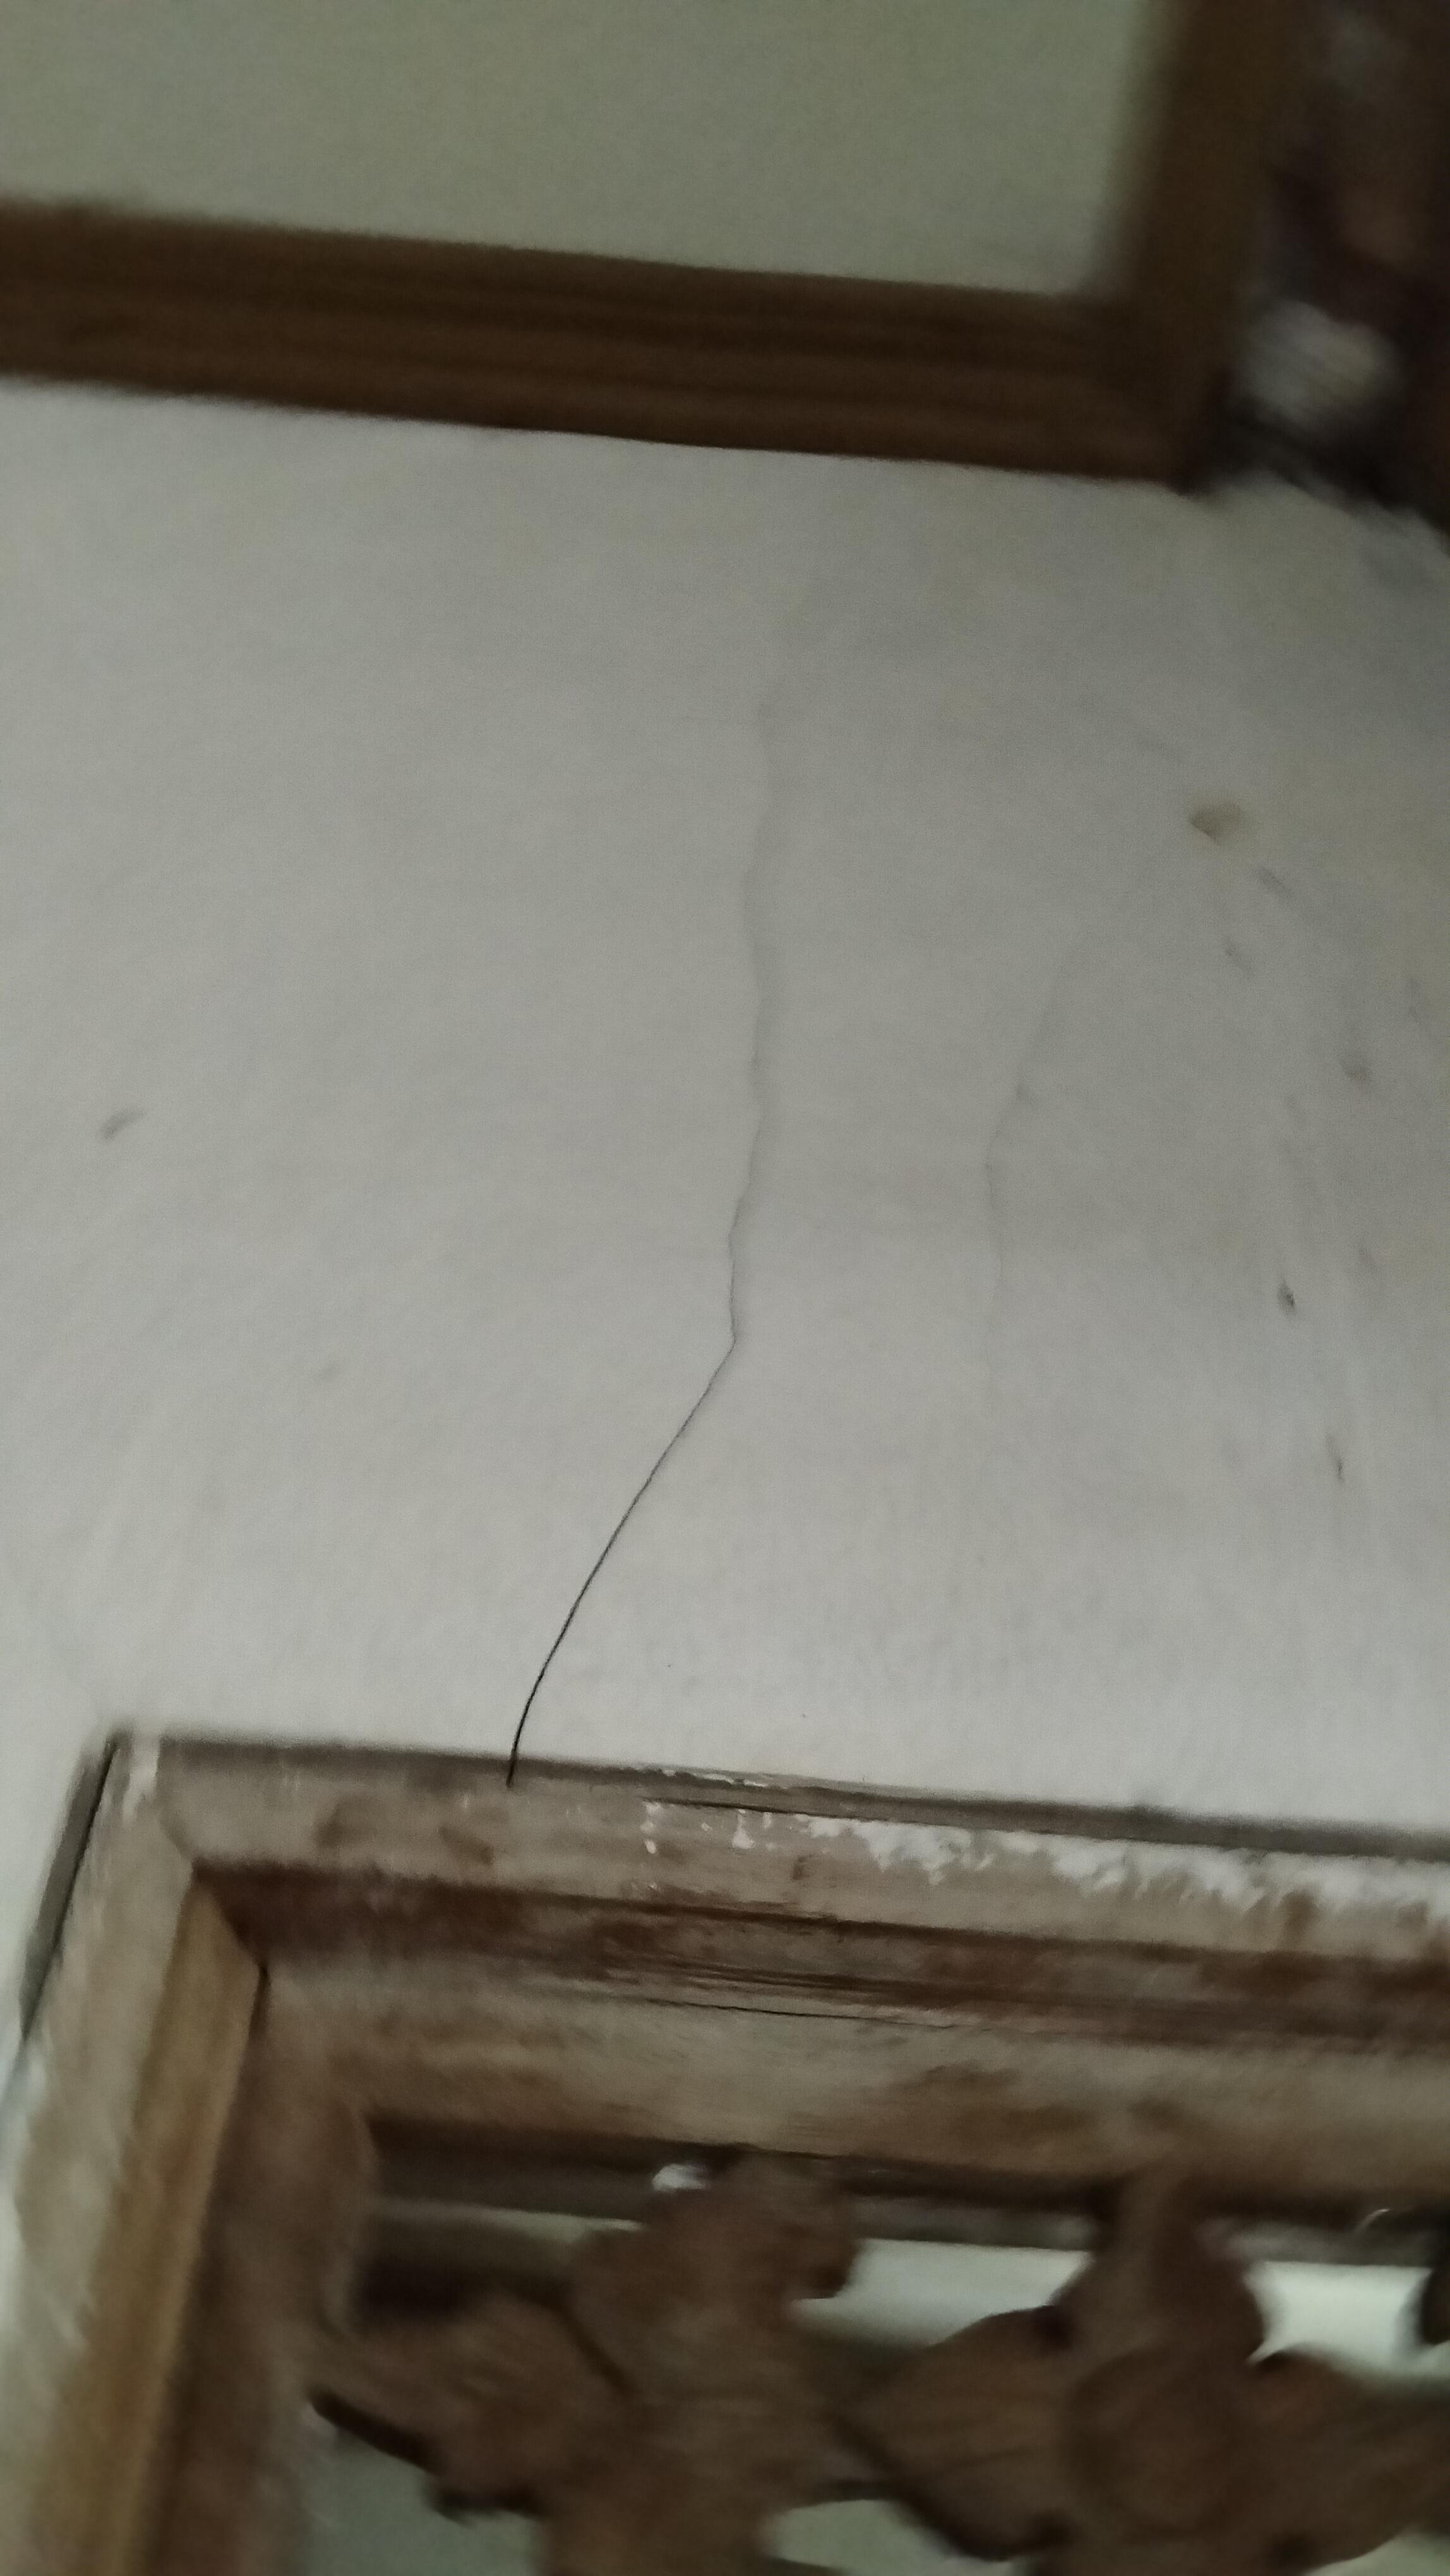Crack: (492, 867, 800, 1794)
